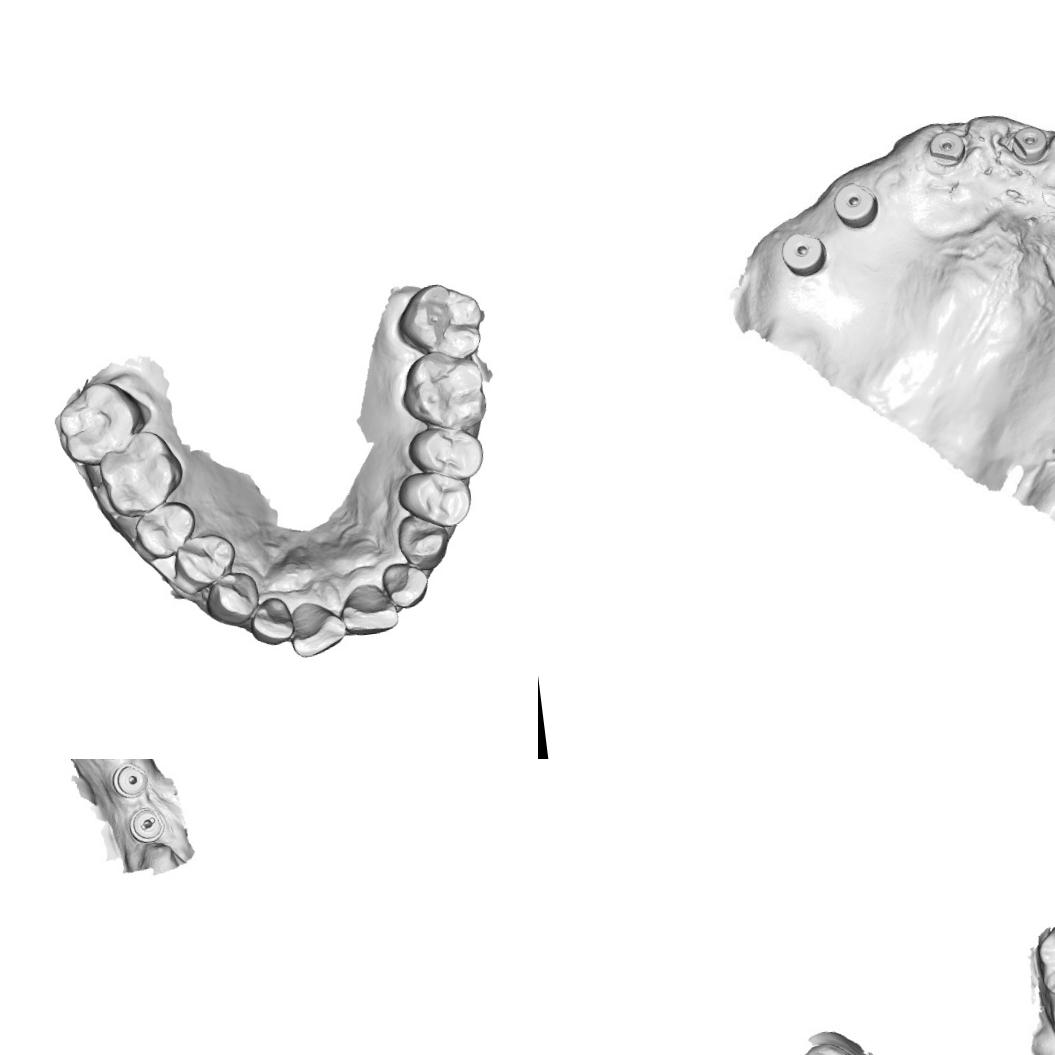canine: (394, 508, 456, 572), (201, 568, 262, 628)
implant: (830, 178, 881, 230), (778, 228, 828, 280), (1005, 122, 1051, 168), (924, 126, 970, 170), (109, 759, 150, 801)
implant_minus: (125, 802, 168, 845)
incisor: (285, 596, 348, 662), (335, 576, 402, 638), (378, 557, 433, 613), (246, 592, 298, 650)
molar: (395, 343, 494, 440), (49, 375, 150, 469), (92, 424, 188, 522), (390, 276, 490, 365), (1032, 913, 1055, 1003)
premolar: (401, 419, 488, 486), (395, 466, 476, 534), (164, 528, 243, 594), (130, 497, 202, 561)
